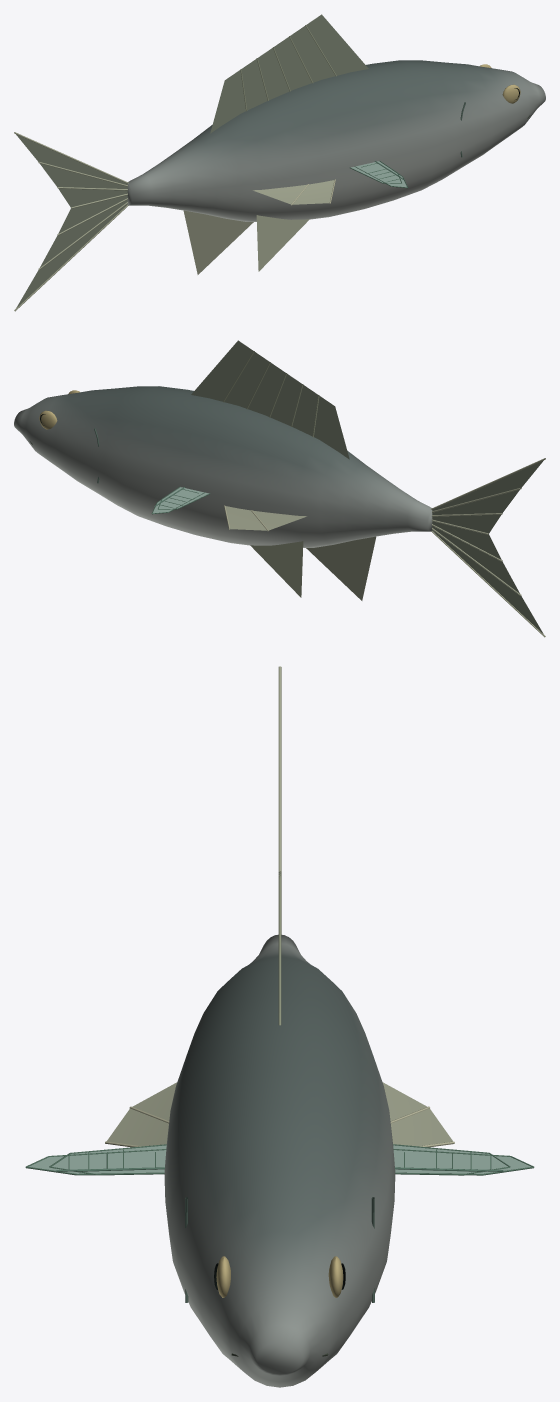
Rendered from pondlife.glb.
The picture shows the model from 3 angles, top to bottom: view 1: azimuth 30°, elevation 25°; view 2: azimuth 150°, elevation 25°; view 3: azimuth 270°, elevation 25°; orthographic projection. The views are drawn at different scales.
Visible parts, largest first — view 1: FishBody, FishPectoralRight, DragonflyForeRight, DragonflyHindRight; view 2: FishBody, FishPectoralLeft, DragonflyForeLeft, DragonflyHindLeft; view 3: FishBody, DragonflyForeLeft, DragonflyForeRight, FishPectoralLeft, FishPectoralRight, DragonflyHindRight, DragonflyHindLeft.
Boxes of the visible parts, x1,y1,x2,y2 form: FishBody: (14, 14, 545, 311); FishPectoralRight: (253, 179, 335, 205); DragonflyForeRight: (354, 161, 408, 188); DragonflyHindRight: (349, 161, 401, 183); FishBody: (14, 340, 545, 637); FishPectoralLeft: (224, 505, 306, 530); DragonflyForeLeft: (151, 486, 205, 514); DragonflyHindLeft: (158, 487, 210, 509); FishBody: (164, 666, 395, 1387); DragonflyForeLeft: (393, 1149, 534, 1175); DragonflyForeRight: (25, 1149, 166, 1175); FishPectoralLeft: (382, 1082, 454, 1147); FishPectoralRight: (105, 1082, 176, 1147); DragonflyHindRight: (49, 1144, 166, 1175); DragonflyHindLeft: (393, 1144, 510, 1175).
Bounding box in the file's own units: 0.9757 × 0.409 × 0.4089.
